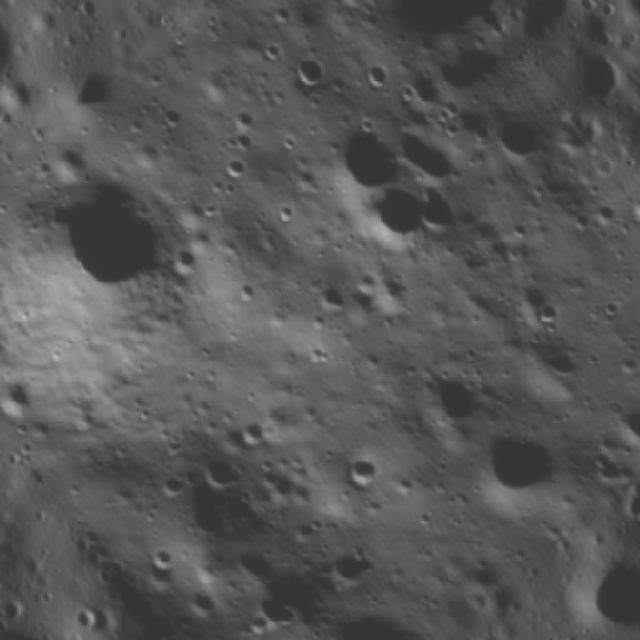crater: (29, 158, 202, 332), (458, 407, 572, 519), (309, 107, 414, 213), (404, 350, 504, 452), (349, 167, 445, 262), (314, 580, 434, 640), (486, 98, 560, 172), (315, 527, 388, 599), (191, 441, 252, 502), (397, 60, 458, 120), (533, 332, 590, 390), (0, 367, 52, 430), (336, 444, 392, 498), (306, 270, 360, 324), (284, 43, 334, 95), (233, 410, 281, 459), (181, 582, 228, 630), (352, 52, 397, 98), (140, 535, 185, 580), (150, 465, 195, 509), (220, 118, 263, 162), (0, 254, 23, 329), (215, 144, 256, 185), (224, 98, 264, 140), (253, 31, 293, 71), (324, 0, 373, 18)
